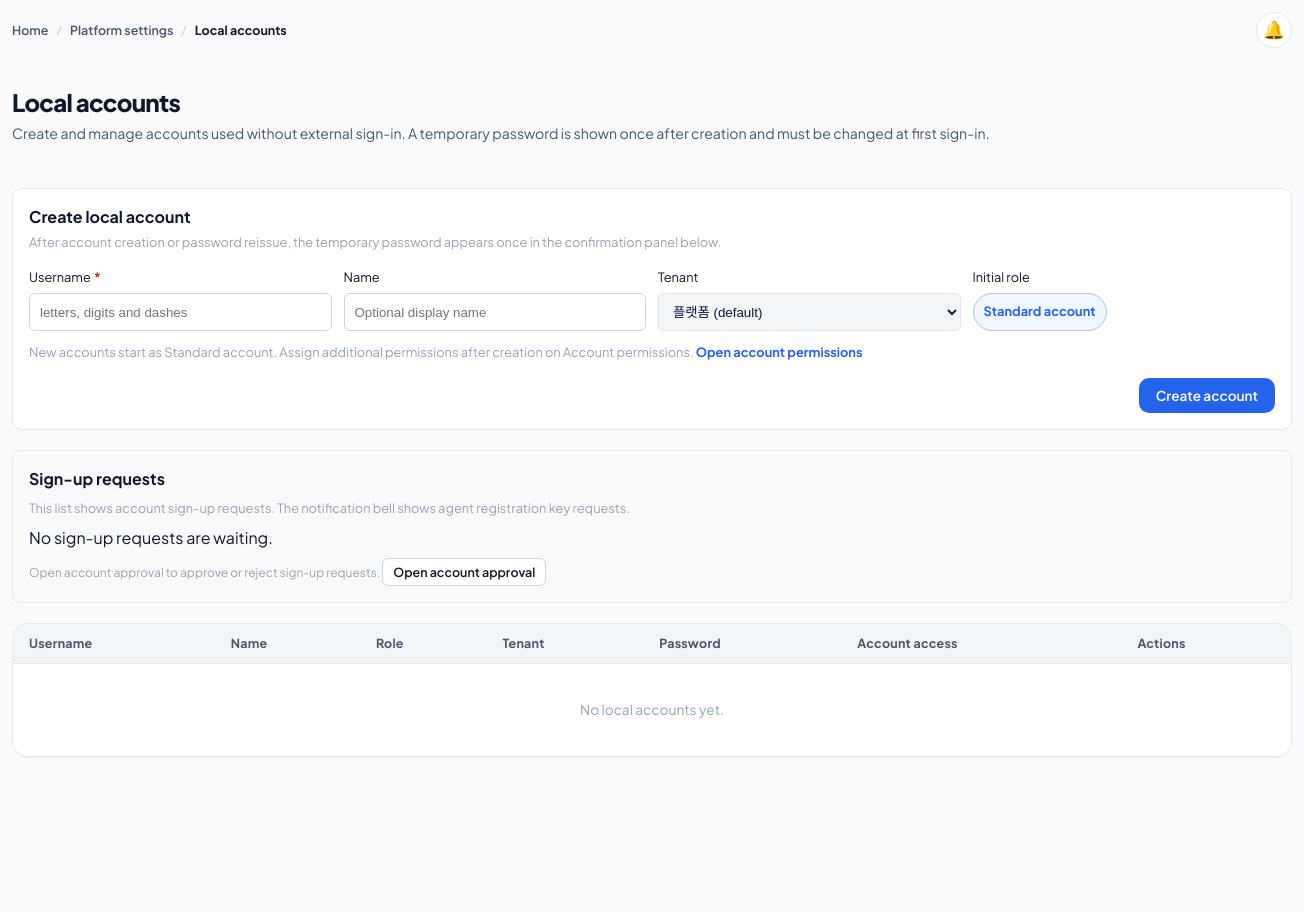
Test case: opening account approval inside the console › reaches a decision panel even when the queue is empty
This screenshot has width=1304, height=912.
Step 1. Click the button with test id "open-admission-approval" → (464, 572), box [382,558,546,586]
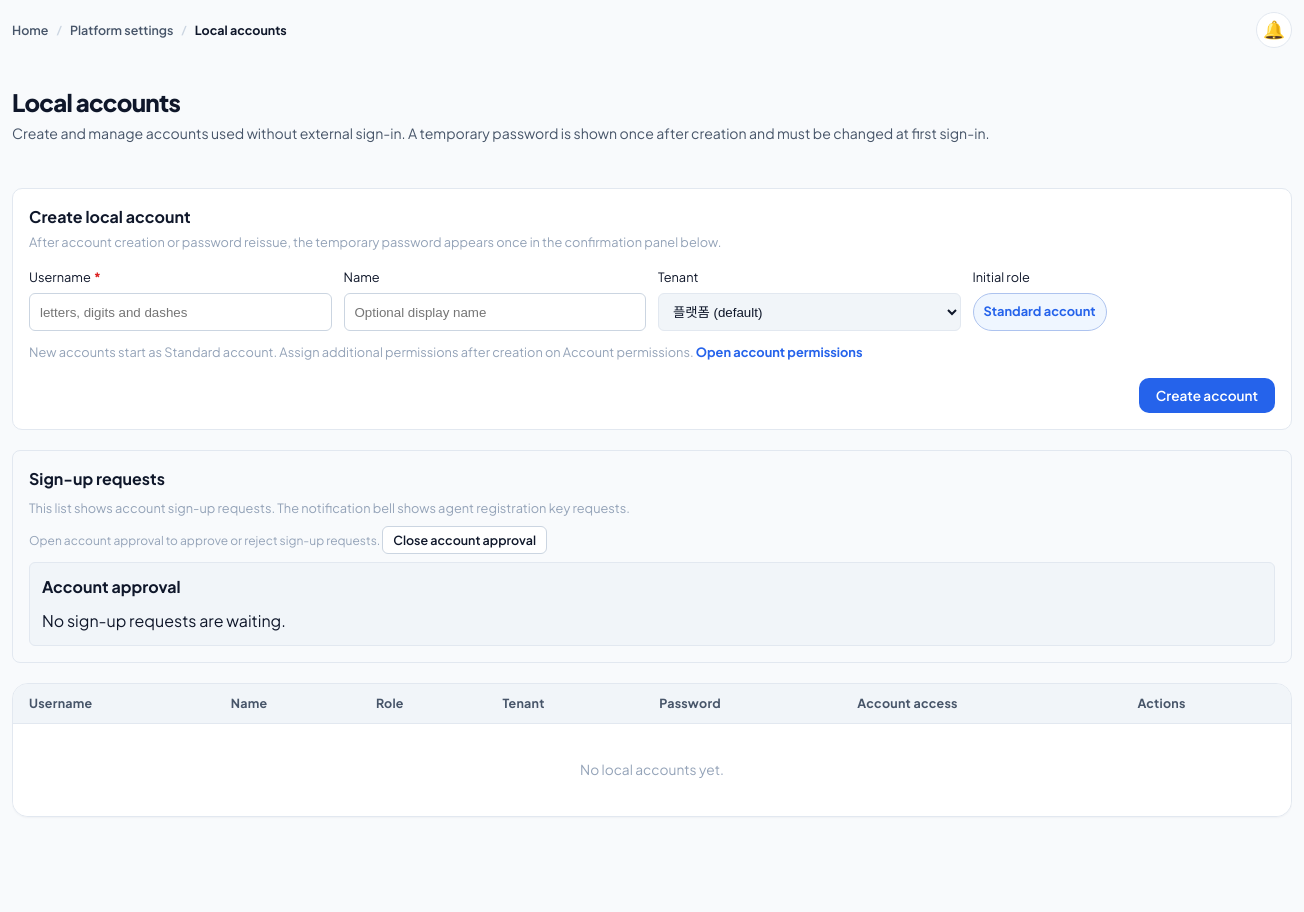
expect the element with test id "admission-decision-panel" shows "Account approval": met, box [42,576,180,597]
expect the element with test id "admission-decision-panel" shows "No sign-up requests are waiting.": met, box [42,610,286,631]
expect the button with test id "open-admission-approval" is expanded: met, box [382,526,547,554]
